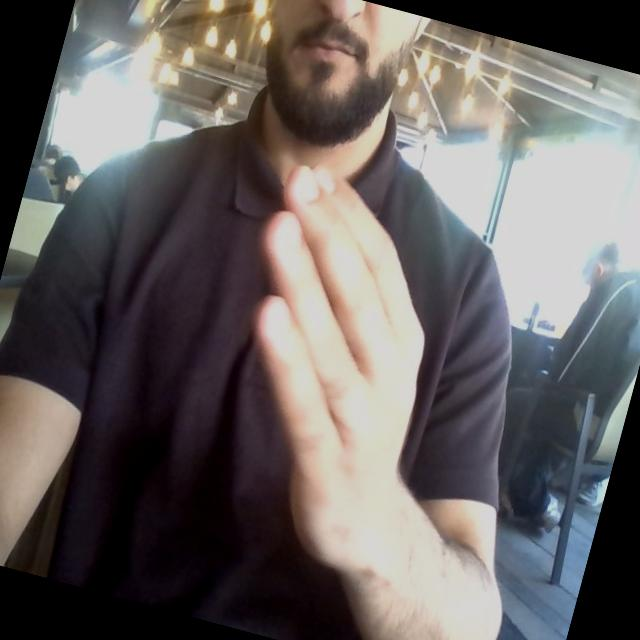Hand: (255, 167, 423, 572)
